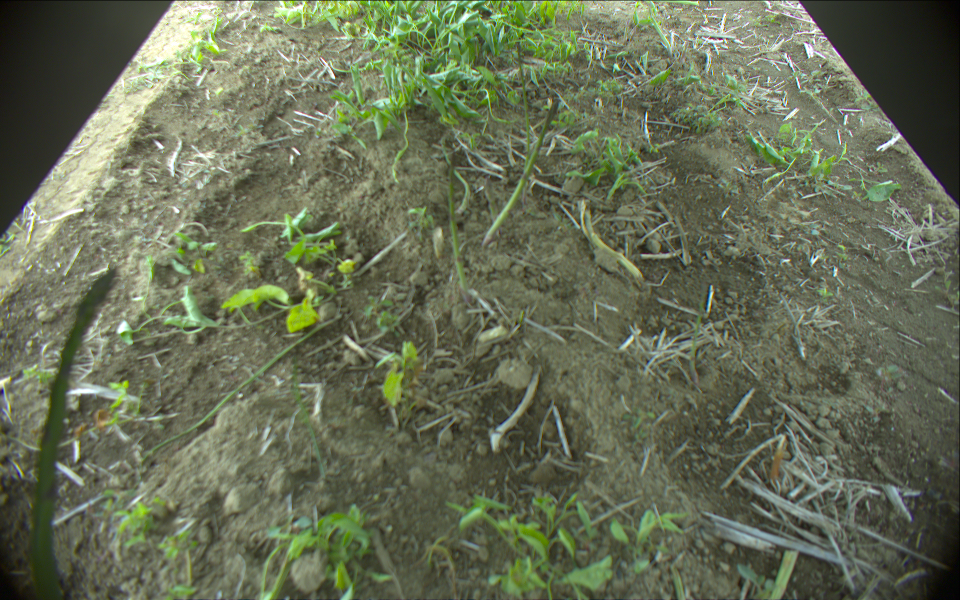aspa: (30, 267, 119, 600), (481, 99, 558, 250), (447, 147, 471, 305), (513, 40, 533, 181), (768, 551, 797, 600)
